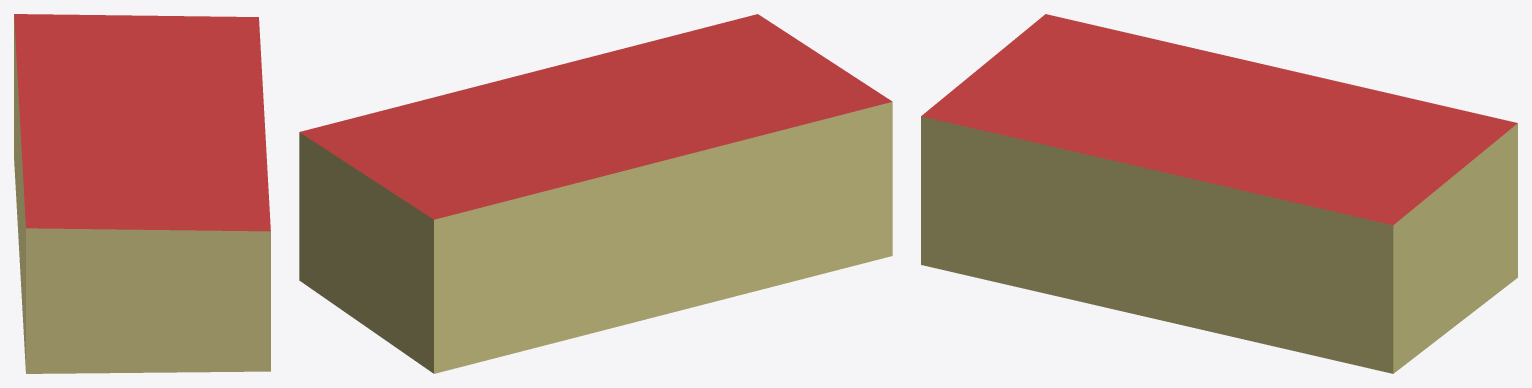
3 views of the same model, side by side, from view 1: azimuth 30°, elevation 25°; view 2: azimuth 150°, elevation 25°; view 3: azimuth 270°, elevation 25° (orthographic). The views are drawn at different scales.
Bounding box in the file's own units: 10.65 × 13.07 × 3.73.
